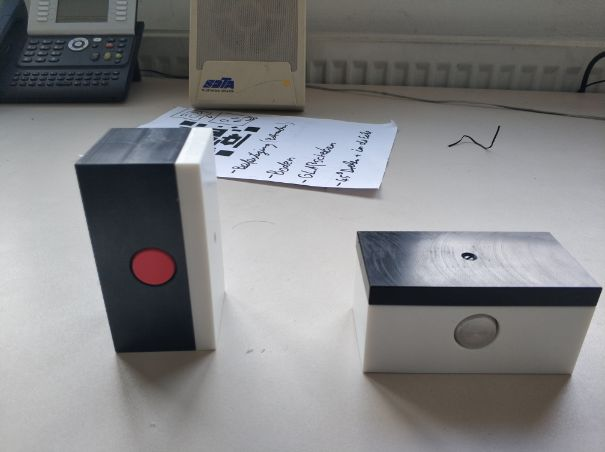black+white+silver: (348, 229, 603, 379)
white+black+red: (72, 125, 230, 354)
